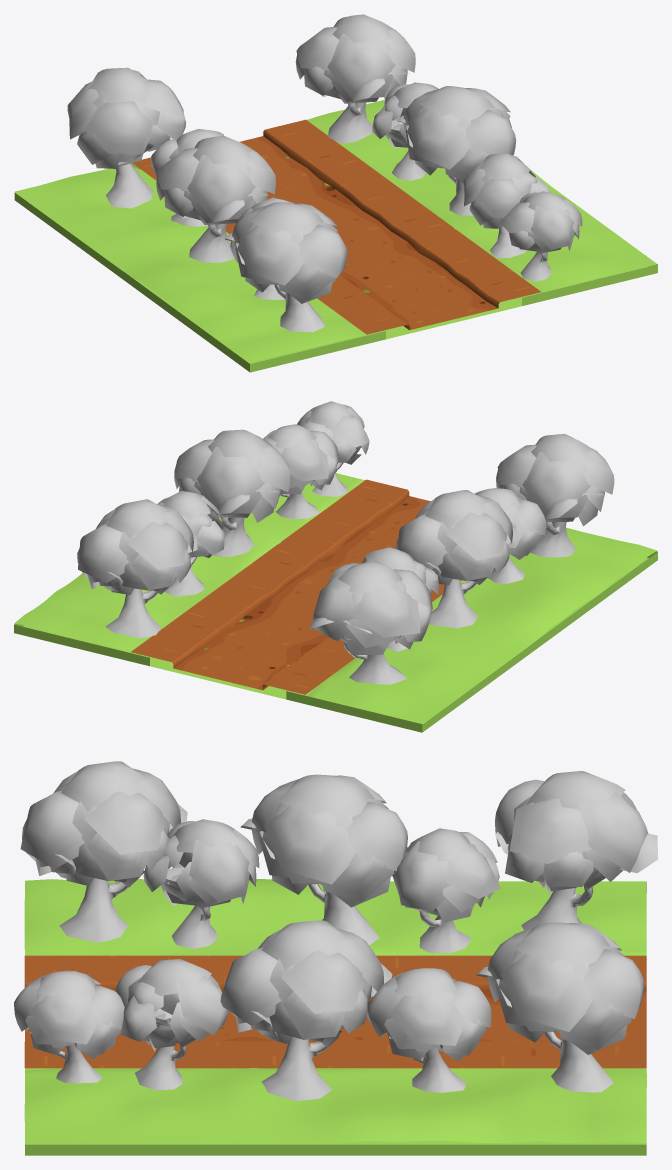
Rendered from Forest4.fbx.
3 renders of one model, top to bottom at view 1: azimuth 30°, elevation 25°; view 2: azimuth 150°, elevation 25°; view 3: azimuth 270°, elevation 25°, orthographic. The views are drawn at different scales.
Visible parts, largest first — view 1: road_I_2.068, Plane.026, road_I_2.067, BOSQUELOWPOLY.051, BOSQUELOWPOLY.032, road_I_2.065, BOSQUELOWPOLY.035, BOSQUELOWPOLY.049, BOSQUELOWPOLY.034, Cube.024, BOSQUELOWPOLY.015, BOSQUELOWPOLY.028 (+5 smaller); view 2: road_I_2.068, Plane.026, BOSQUELOWPOLY.035, road_I_2.067, road_I_2.065, BOSQUELOWPOLY.051, BOSQUELOWPOLY.049, BOSQUELOWPOLY.034, BOSQUELOWPOLY.032, Cube.024, BOSQUELOWPOLY.015, BOSQUELOWPOLY.029 (+5 smaller); view 3: road_I_2.067, road_I_2.068, BOSQUELOWPOLY.034, BOSQUELOWPOLY.035, BOSQUELOWPOLY.032, BOSQUELOWPOLY.049, BOSQUELOWPOLY.051, road_I_2.065, BOSQUELOWPOLY.029, BOSQUELOWPOLY.015, BOSQUELOWPOLY.036, BOSQUELOWPOLY.050 (+4 smaller).
Part boxes in pixels (x1,y1,x2,y2): road_I_2.068: (14, 167, 366, 362); Plane.026: (240, 136, 498, 329); road_I_2.067: (307, 99, 657, 293); BOSQUELOWPOLY.051: (67, 67, 186, 208); BOSQUELOWPOLY.032: (225, 202, 347, 332); road_I_2.065: (265, 119, 540, 301); BOSQUELOWPOLY.035: (295, 14, 415, 143); BOSQUELOWPOLY.049: (156, 136, 275, 262); BOSQUELOWPOLY.034: (396, 86, 516, 215); Cube.024: (14, 163, 657, 372); BOSQUELOWPOLY.015: (463, 153, 550, 258); BOSQUELOWPOLY.028: (500, 191, 582, 281); road_I_2.068: (308, 526, 657, 723); Plane.026: (173, 496, 430, 690); BOSQUELOWPOLY.035: (77, 499, 197, 637); road_I_2.067: (14, 473, 364, 652); road_I_2.065: (131, 479, 407, 661); BOSQUELOWPOLY.051: (308, 561, 432, 684); BOSQUELOWPOLY.049: (396, 490, 516, 628); BOSQUELOWPOLY.034: (174, 429, 291, 556); BOSQUELOWPOLY.032: (496, 434, 614, 557); Cube.024: (14, 480, 657, 732); BOSQUELOWPOLY.015: (263, 424, 339, 519); BOSQUELOWPOLY.029: (157, 491, 224, 596); road_I_2.067: (24, 1068, 646, 1144); road_I_2.068: (24, 879, 646, 960); BOSQUELOWPOLY.034: (220, 920, 392, 1100); BOSQUELOWPOLY.035: (476, 922, 644, 1092); BOSQUELOWPOLY.032: (20, 761, 187, 942); BOSQUELOWPOLY.049: (240, 774, 407, 945); BOSQUELOWPOLY.051: (495, 771, 657, 930); road_I_2.065: (24, 1040, 646, 1068); BOSQUELOWPOLY.029: (367, 968, 491, 1092); BOSQUELOWPOLY.015: (115, 959, 228, 1090); BOSQUELOWPOLY.036: (143, 819, 259, 948); BOSQUELOWPOLY.050: (392, 828, 500, 953).
Size of the model in its own units: 10020 by 3002 by 10357.
